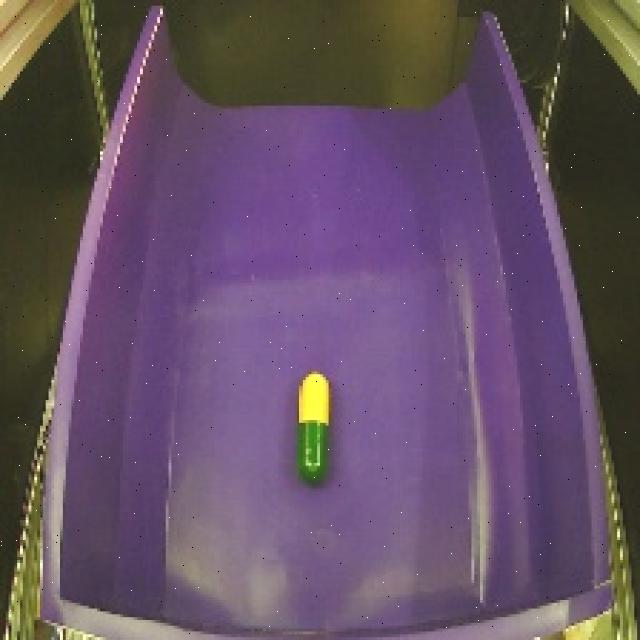small: (285, 368, 343, 490)
